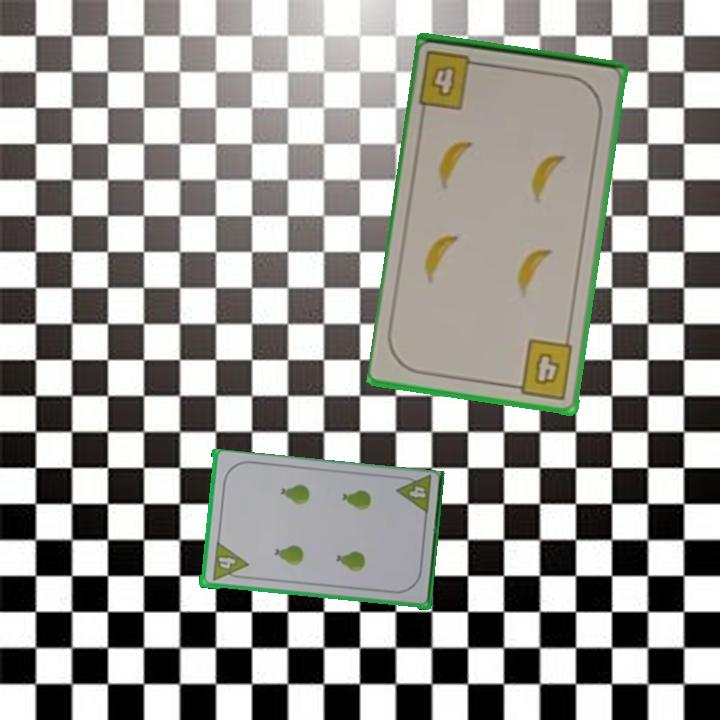4b: (416, 46, 487, 112), (507, 335, 576, 402)
4p: (392, 473, 434, 519), (208, 539, 250, 584)
